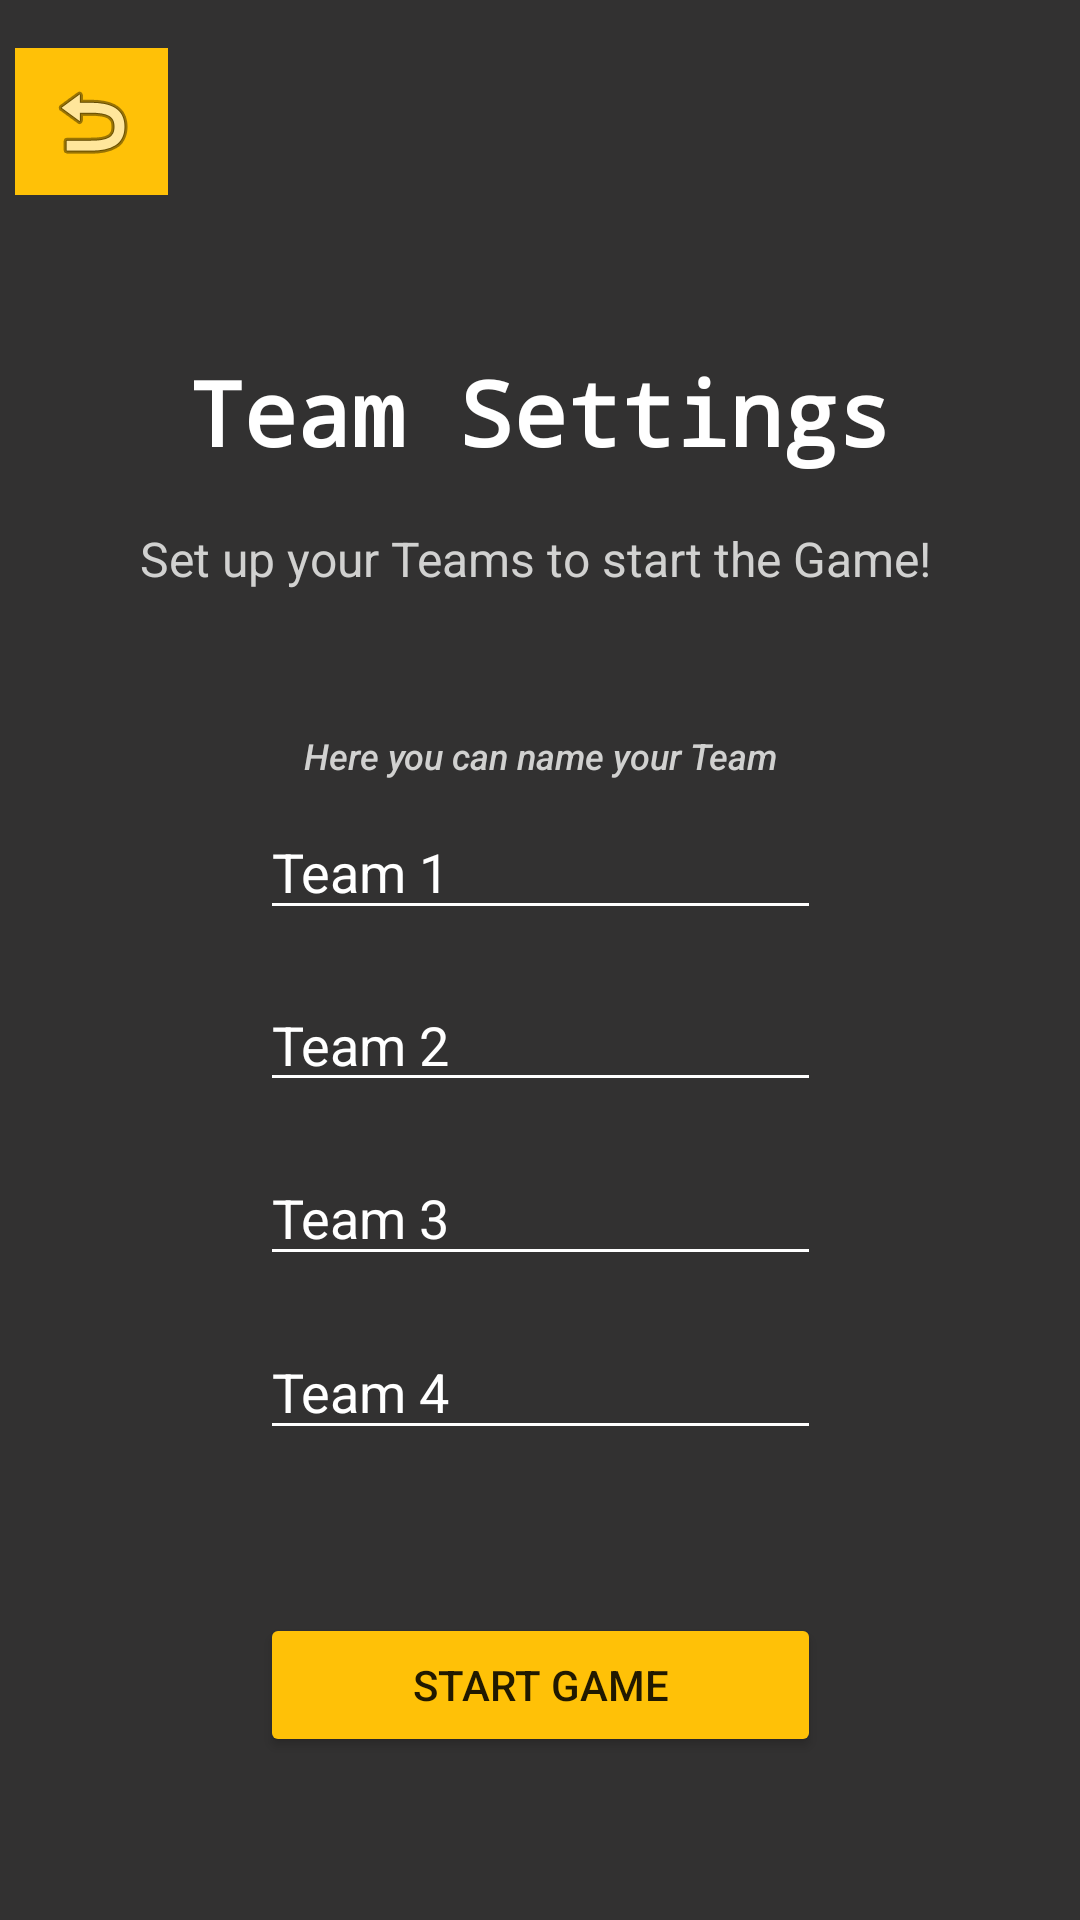

Screen size 1080*1920. Icon name, then its center in pixels as [x,y]:
revert: [91,121]
